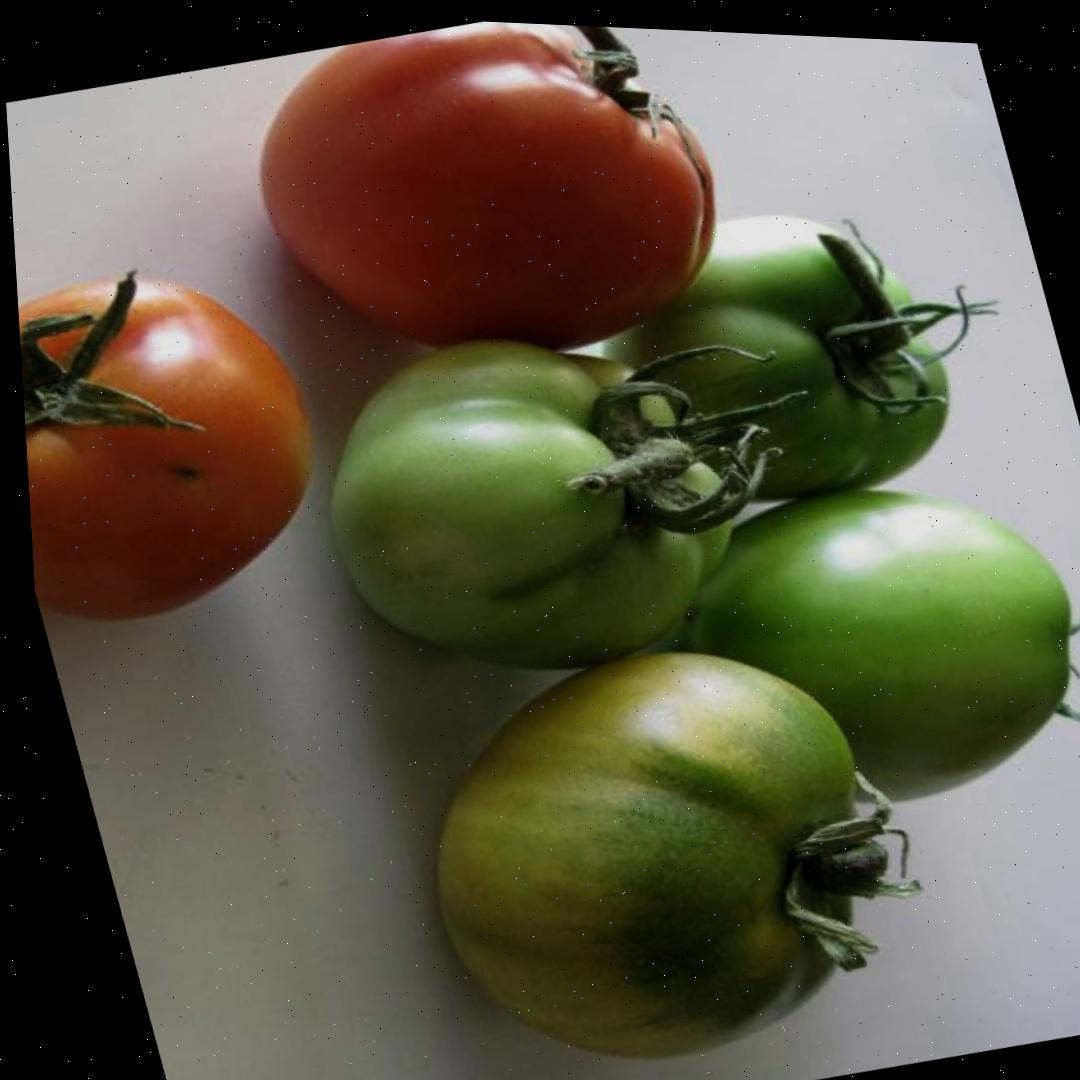matang: (226, 10, 755, 416), (14, 241, 358, 646)
mentah: (280, 283, 775, 720), (582, 443, 1080, 863), (563, 175, 974, 544)
setengah_matang: (375, 606, 924, 1080)
